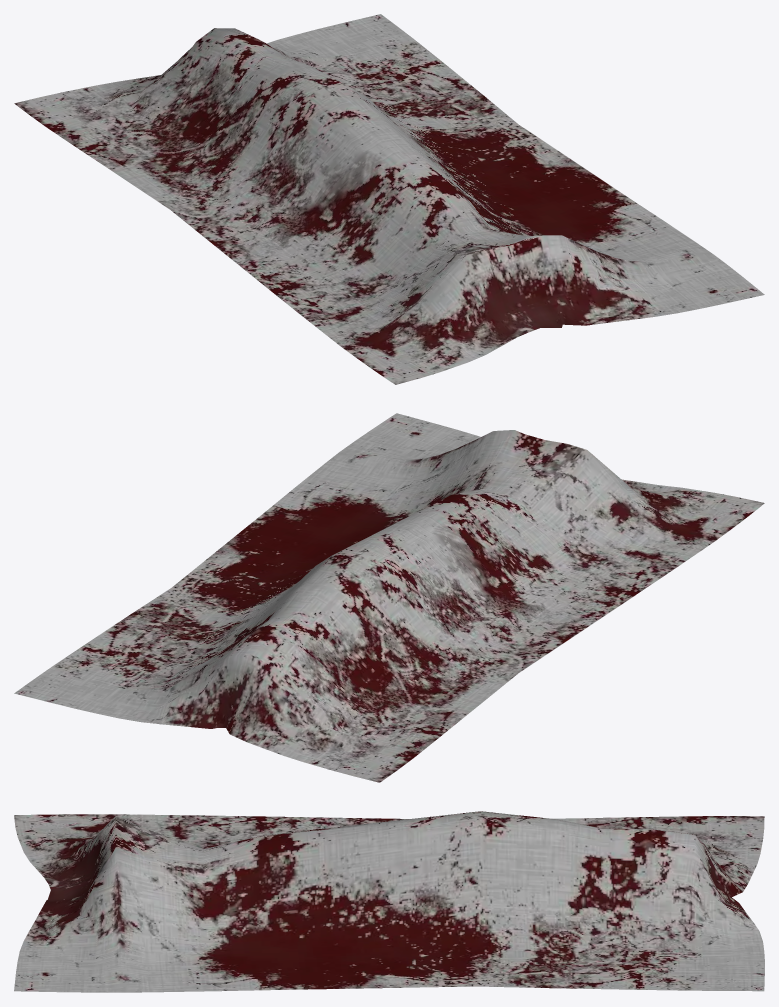
Rendered from x_cadaver_murder_scene_cloth_body.glb.
The picture shows the model from 3 angles, top to bottom: view 1: azimuth 30°, elevation 25°; view 2: azimuth 150°, elevation 25°; view 3: azimuth 270°, elevation 25°; orthographic projection. The views are drawn at different scales.
Parts seen in each view (by area): view 1: low_Material #57_0; view 2: low_Material #57_0; view 3: low_Material #57_0.
Boxes of the visible parts, x1=… form: low_Material #57_0: x1=14, y1=14, x2=764, y2=384; low_Material #57_0: x1=14, y1=413, x2=764, y2=782; low_Material #57_0: x1=14, y1=811, x2=764, y2=992.
Size of the model in its own units: 1.07 by 0.2229 by 1.9.
1 material, 1 textured.
